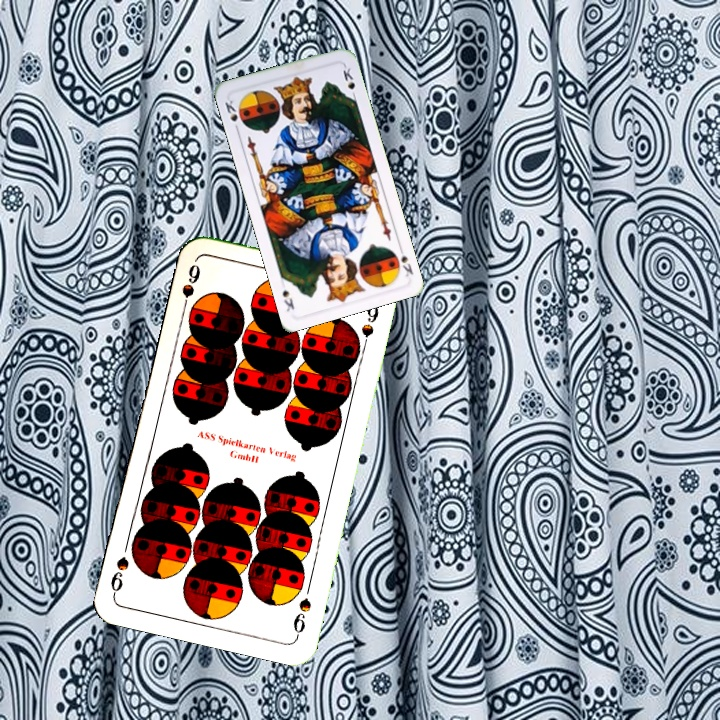S9: (178, 260, 203, 316), (289, 594, 314, 640)
SK: (221, 95, 242, 135), (394, 242, 416, 279)
